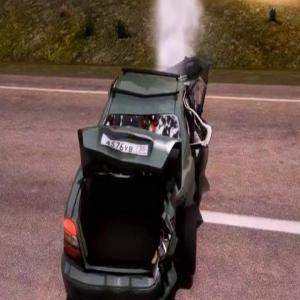fatal: (58, 51, 216, 300)
